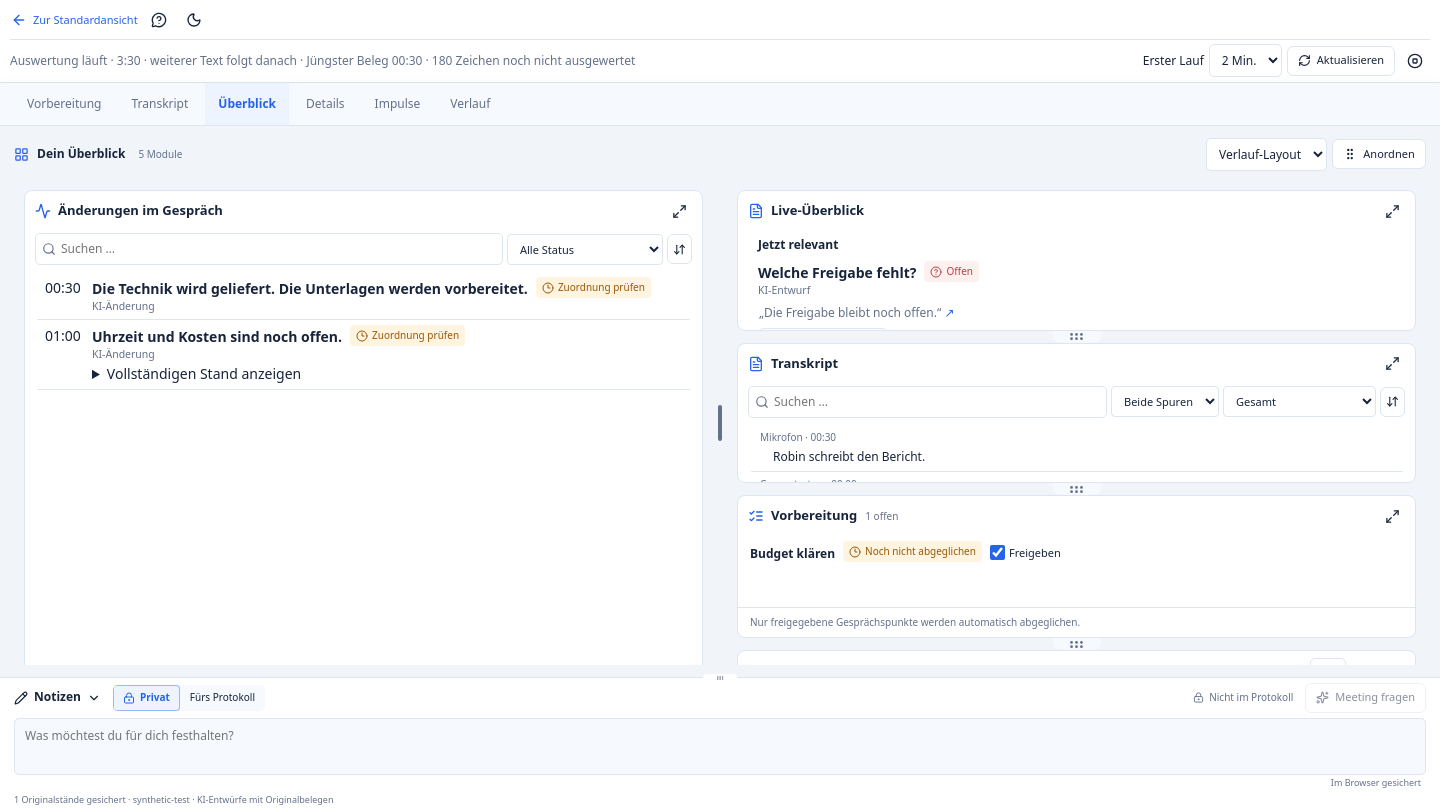
Test case: shows a factual addition without repeating the previous complete paragraph
Click the tab "Verlauf".
click(470, 104)  # box [437,83,503,125]
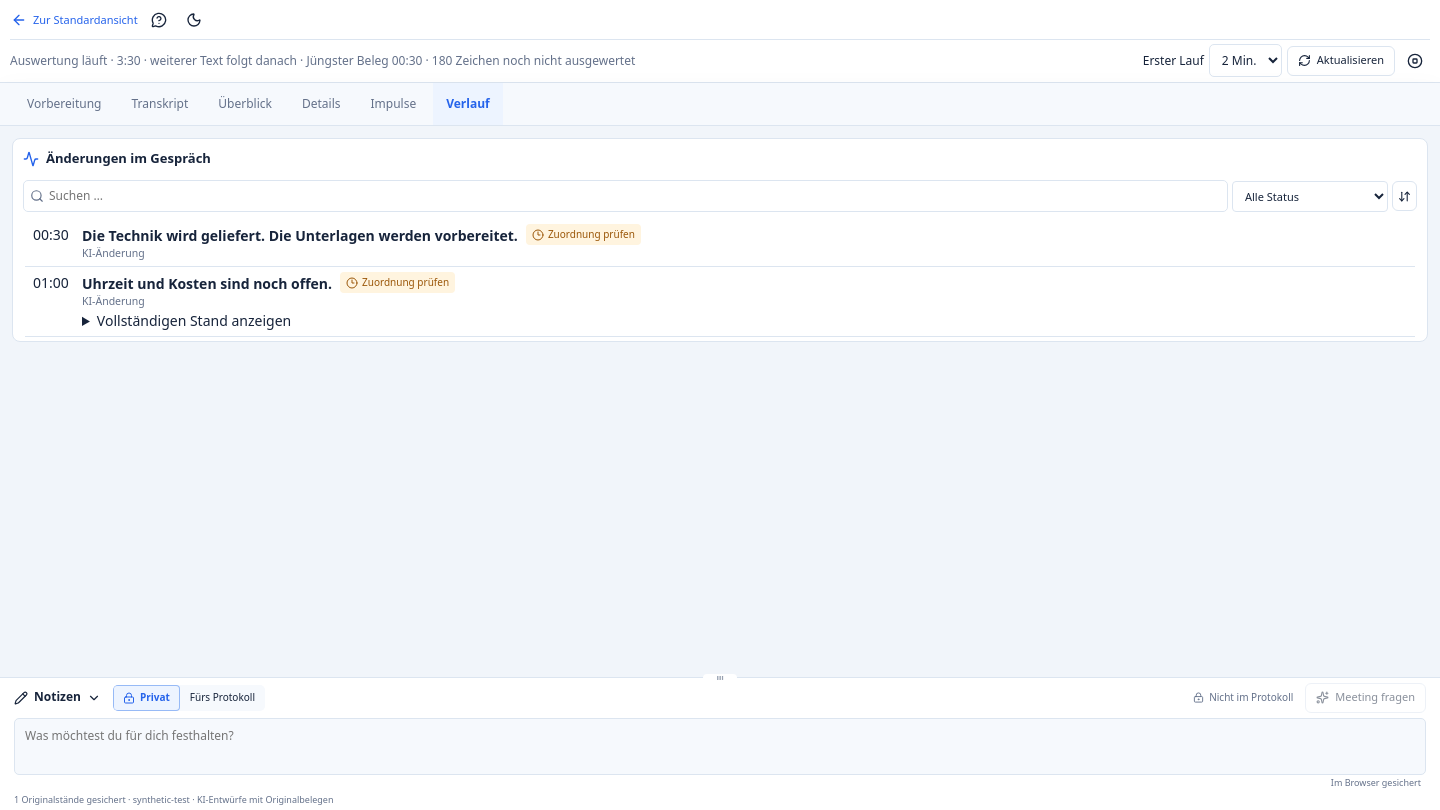
Expected: the number of elements with class "change-row" is 2, [25,219,1415,267]; [25,267,1415,337]
Expected: the text "Die Technik wird geliefert. Die Unterlagen werden vorbereitet." is shown, [82,224,518,246]
Type "Uhrzeit" into the field named "Änderungen im Gespräch durchsuchen".
click(638, 196); type("Uhrzeit")  # box [49,181,1227,211]
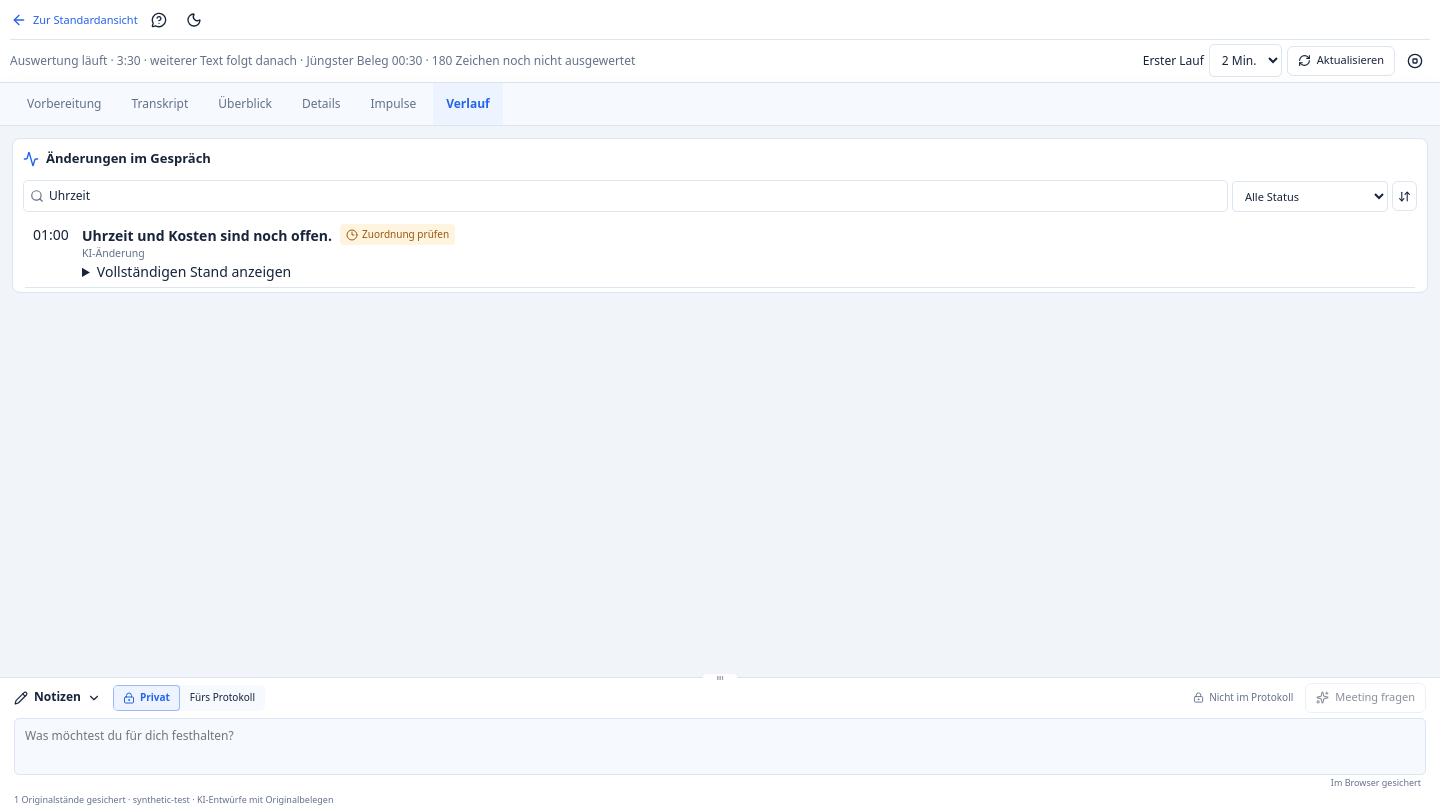
Expected: the text "Uhrzeit und Kosten sind noch offen." is shown, [82,224,332,246]
Expected: the number of elements with class "change-row" is 1, [25,219,1415,288]
